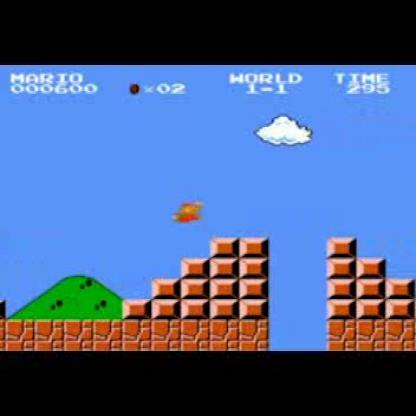Hoyo: (266, 319, 333, 348)
